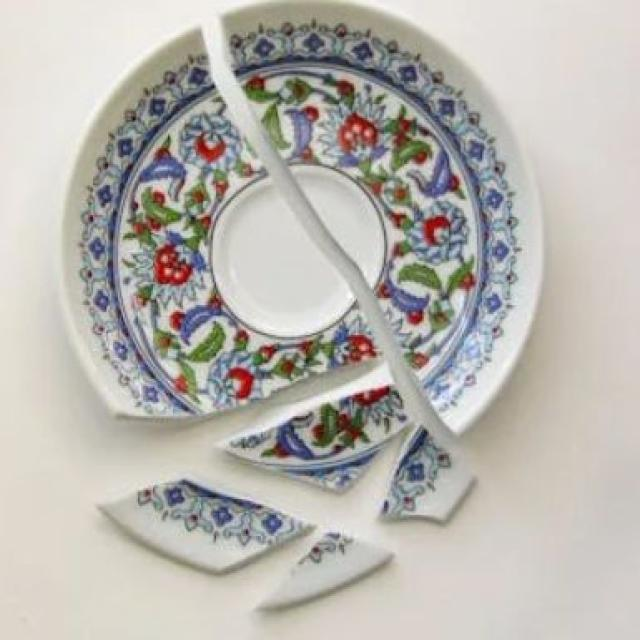electronic: (56, 0, 548, 619)
